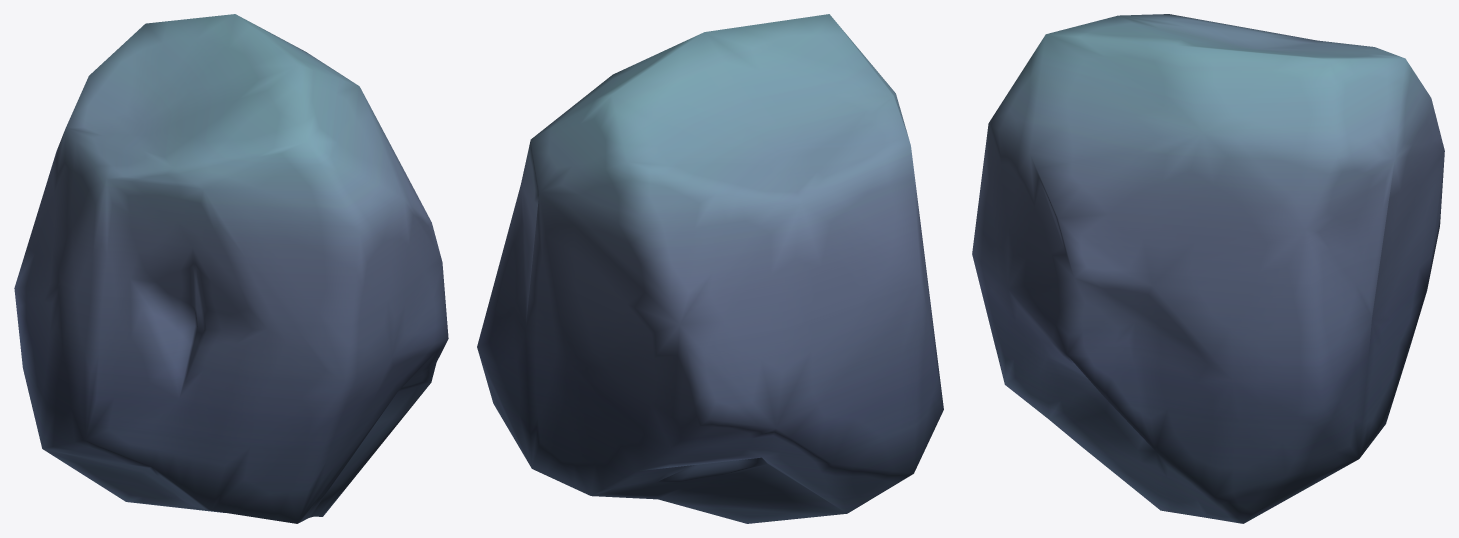
File: SM_Hill_Rock_03.fbx
The picture shows the model from 3 angles, left to right: view 1: azimuth 30°, elevation 25°; view 2: azimuth 150°, elevation 25°; view 3: azimuth 270°, elevation 25°; orthographic projection. The views are drawn at different scales.
Visible parts, largest first — view 1: littleStone.001; view 2: littleStone.001; view 3: littleStone.001.
Boxes of the visible parts, x1,y1,x2,y2 form: littleStone.001: (14, 14, 448, 523); littleStone.001: (477, 14, 943, 523); littleStone.001: (972, 14, 1444, 523).
Bounding box in the file's own units: 559 × 638 × 599.
Materials: 1 (1 with a texture image).
